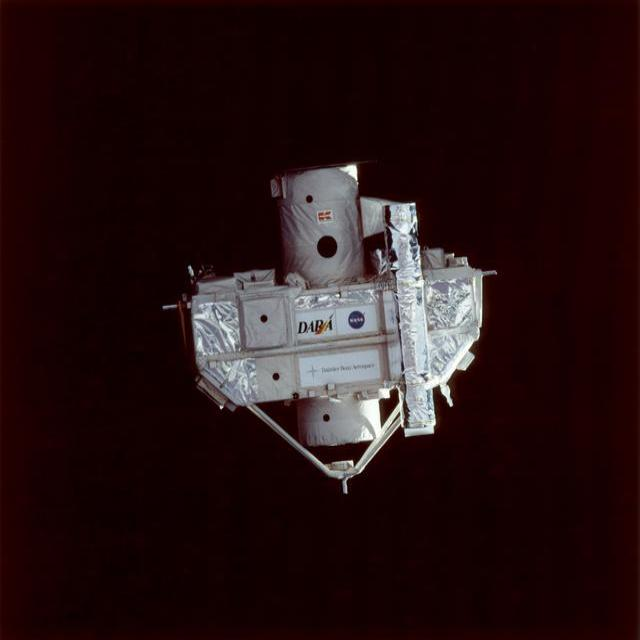medium_debris: (181, 164, 489, 492)
